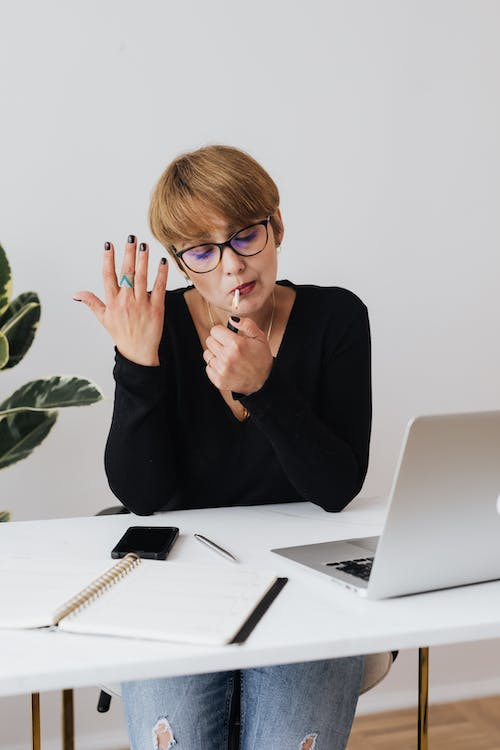cigarette: (231, 287, 241, 313)
